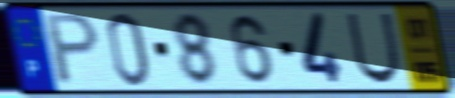0: (103, 9, 153, 89)
4: (299, 9, 350, 89)
6: (227, 12, 276, 87)
8: (171, 10, 221, 89)
P: (43, 11, 102, 89)
U: (343, 11, 403, 87)
